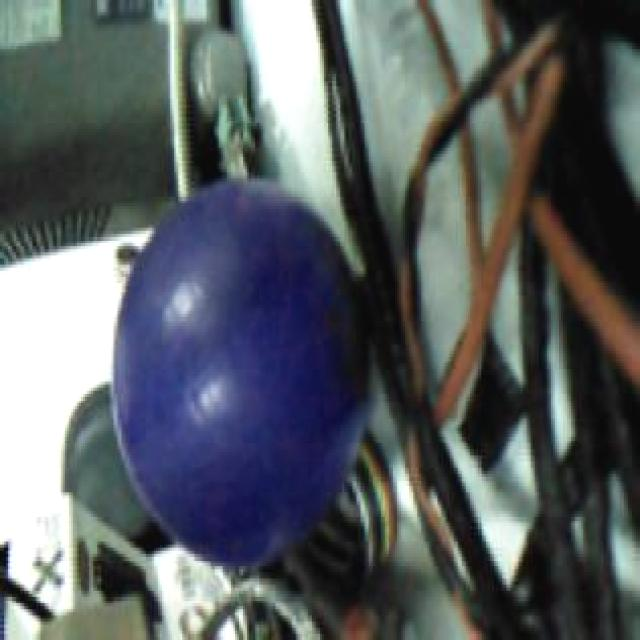BallPurple: (111, 184, 370, 564)
